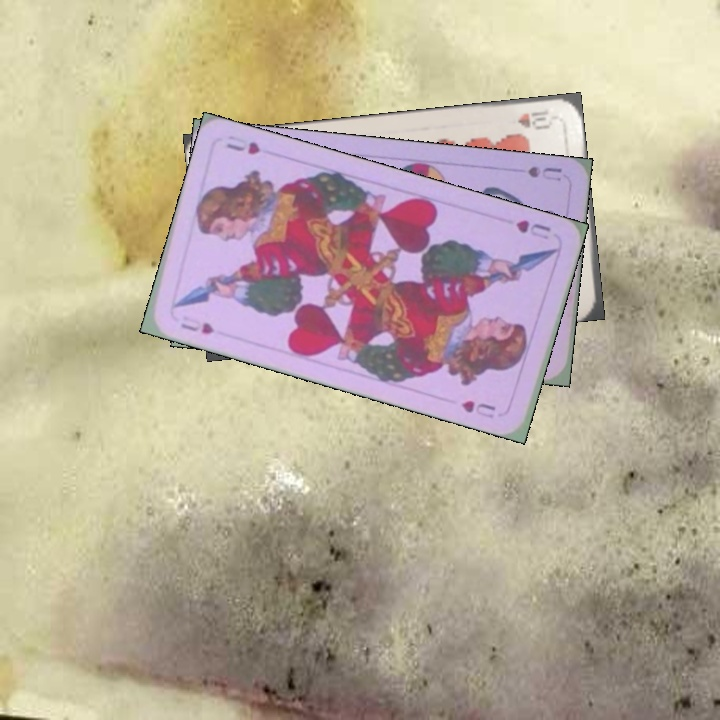H10: (514, 106, 557, 131)
HU: (512, 215, 553, 242), (176, 318, 217, 337)
SU: (523, 162, 565, 184)
